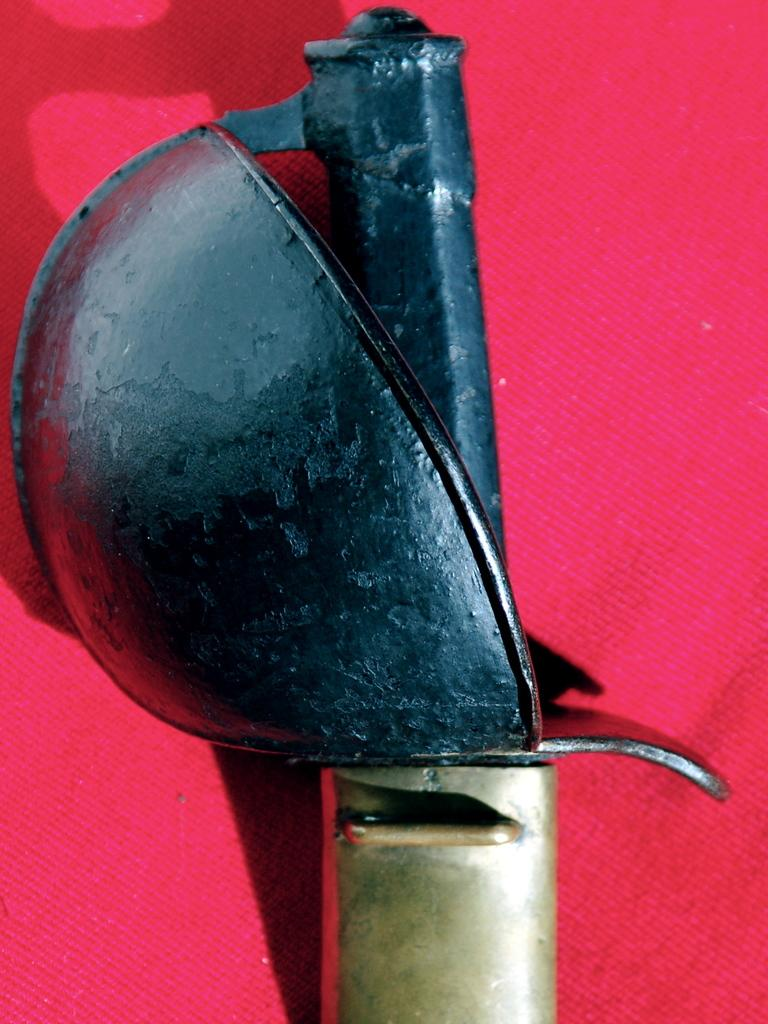Sword: (9, 6, 732, 1023)
